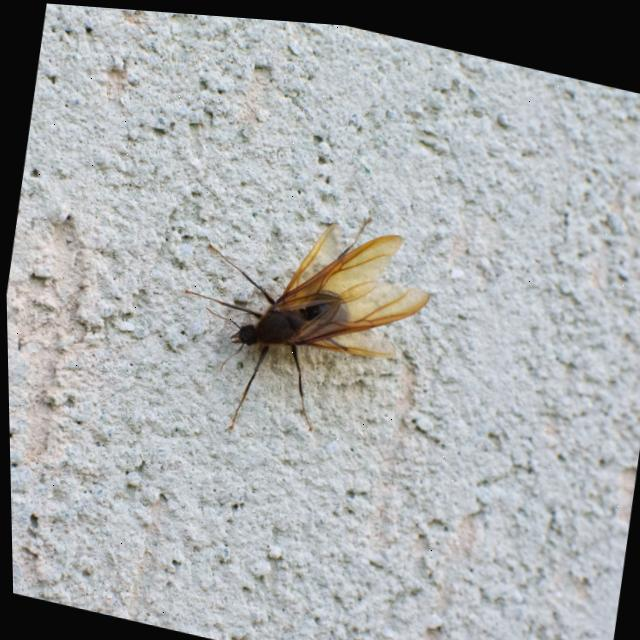Alive-Male-Alate: (161, 174, 441, 466)
